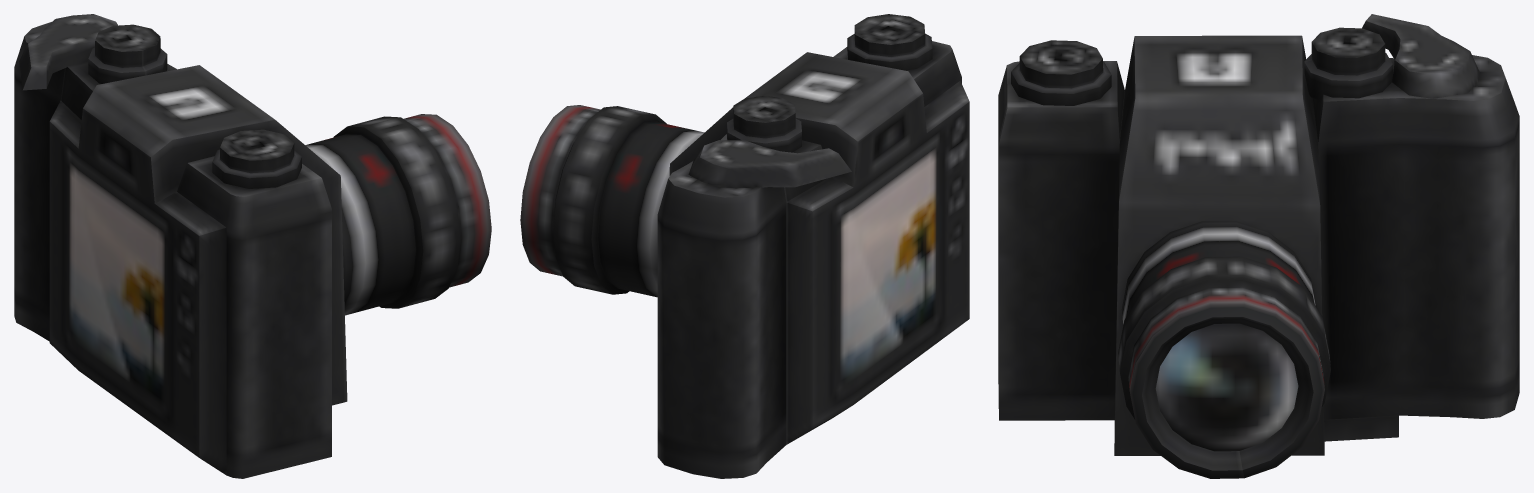
Rendered from WuZhengDiaoChaKe_01_zhaoxiangji_01.FBX.
3 views of the same model, side by side, from view 1: azimuth 30°, elevation 25°; view 2: azimuth 150°, elevation 25°; view 3: azimuth 270°, elevation 25° (orthographic). The views are drawn at different scales.
Parts seen in each view (by area): view 1: CeSuo_xiangji_01; view 2: CeSuo_xiangji_01; view 3: CeSuo_xiangji_01.
Boxes of the visible parts, x1=… form: CeSuo_xiangji_01: x1=14, y1=14, x2=491, y2=478; CeSuo_xiangji_01: x1=520, y1=14, x2=969, y2=478; CeSuo_xiangji_01: x1=998, y1=14, x2=1519, y2=478.
Size of the model in its own units: 70.27 by 61.32 by 77.48.
